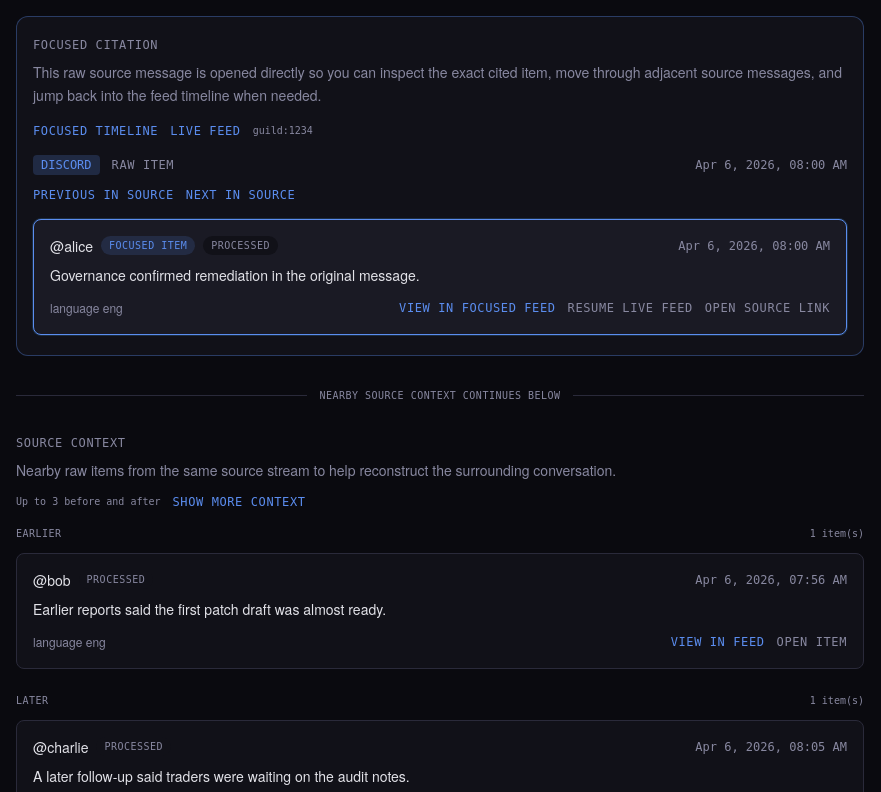
ItemView › keeps the widened context window when switching from the raw-item route back into the focused feed
expect the text "Governance confirmed remediation in the original message." is shown: met, box [50,264,420,284]
Click the button "Show more context".
click(239, 502)  # box [172,494,306,510]
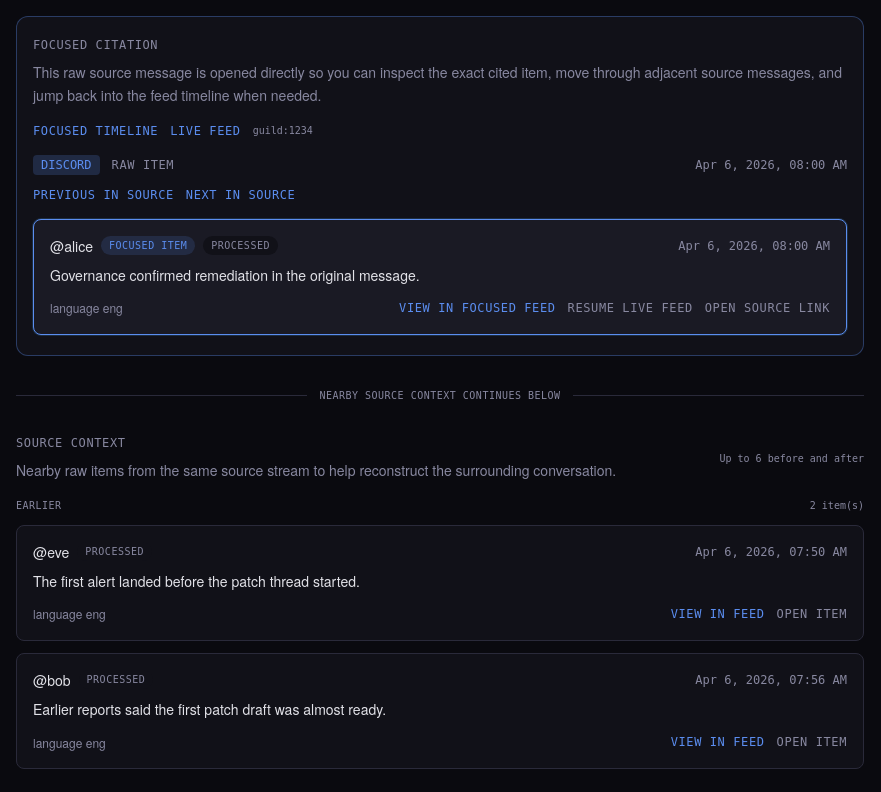
expect the text "The first alert landed before the patch thread started." is shown: met, box [33,570,360,590]
Click the link "Focused timeline".
click(96, 130)  # box [33,122,158,138]
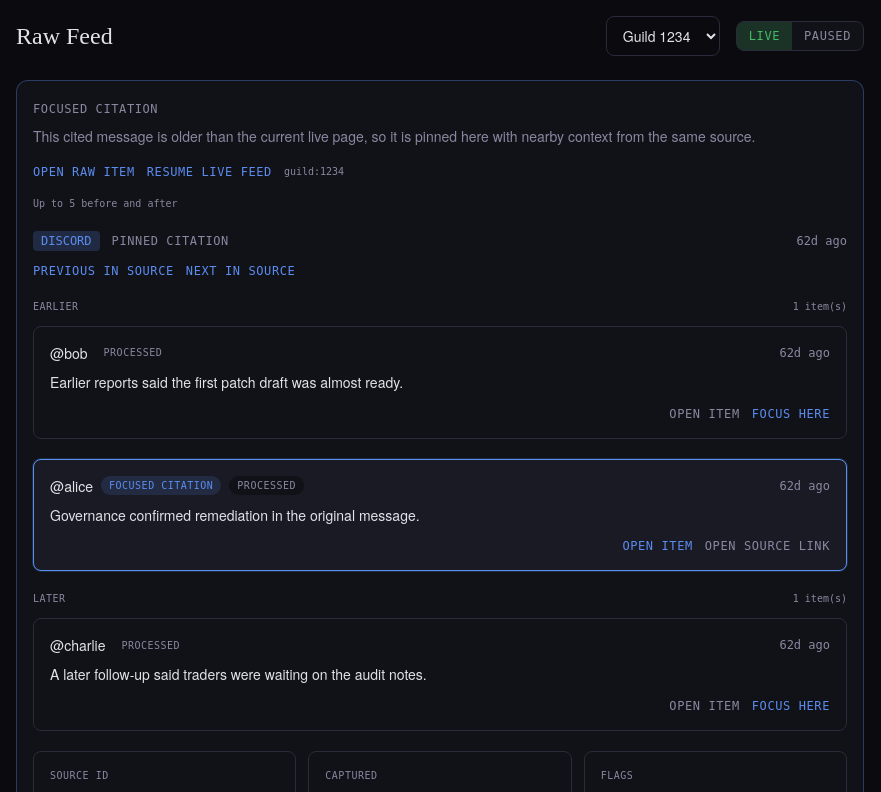
expect the button "Show more context" is not shown: met
expect the text "Up to 5 before and after" is shown: met, box [33,196,178,211]
